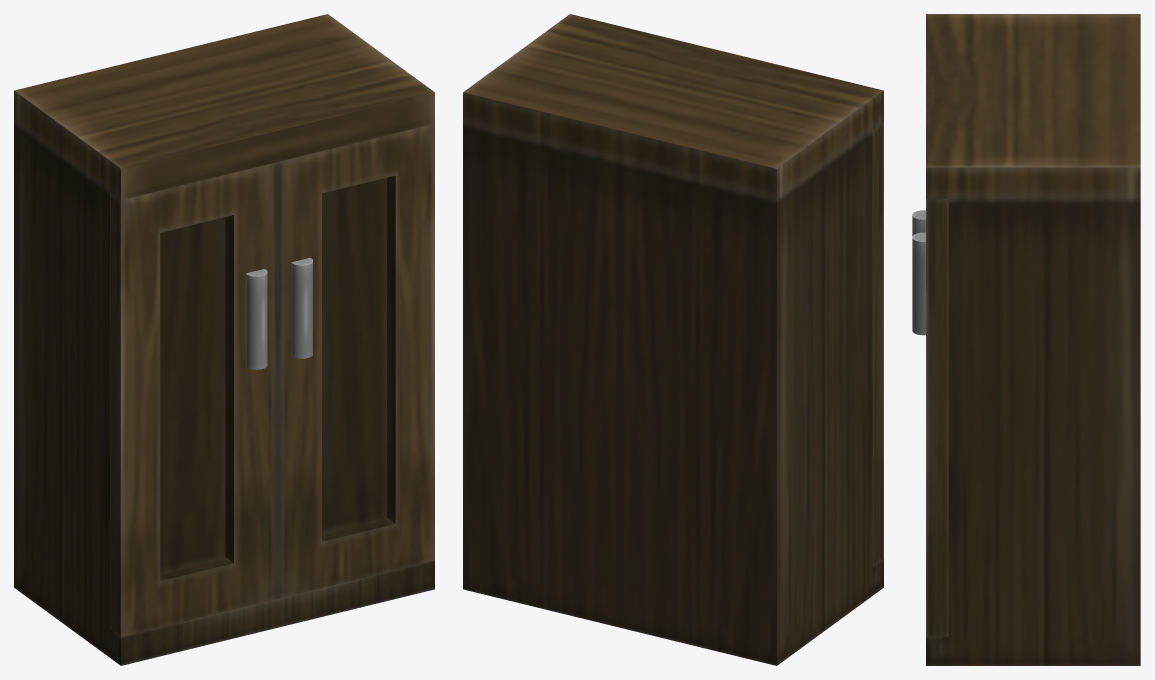
File: ChicCabinet_HD.fbx
3 renders of one model, left to right at view 1: azimuth 30°, elevation 25°; view 2: azimuth 150°, elevation 25°; view 3: azimuth 270°, elevation 25°, orthographic.
Parts seen in each view (by area): view 1: ChicCabinet; view 2: ChicCabinet; view 3: ChicCabinet.
Part boxes in pixels (left/top/right/bottom): ChicCabinet: left=14, top=14, right=434, bottom=665; ChicCabinet: left=463, top=14, right=883, bottom=665; ChicCabinet: left=912, top=14, right=1140, bottom=665.
Size of the model in its own units: 0.9801 by 1.48 by 0.6158.
